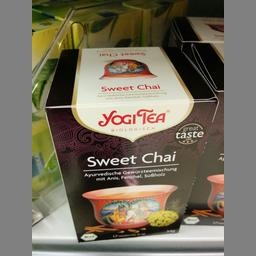tea: (42, 44, 220, 242)
